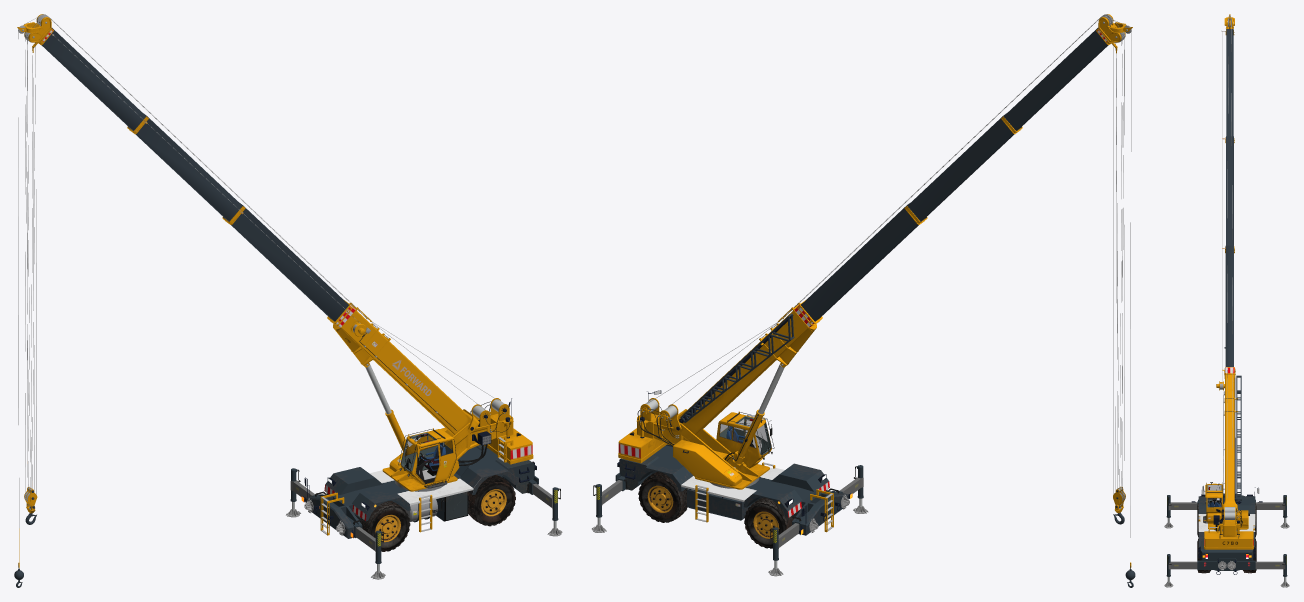
Rendered from crane_machine_high.glb.
The picture shows the model from 3 angles, left to right: view 1: azimuth 30°, elevation 25°; view 2: azimuth 150°, elevation 25°; view 3: azimuth 270°, elevation 25°; orthographic projection. The views are drawn at different scales.
Visible parts, largest first — view 1: polySurface51_hand__0, pCube59_base__0, pCube33_body__0, polySurface208_tyre__0, pCube15_cabin__0, polySurface110_hydrolic_lift__0, polySurface164_glass_1_0, polySurface220_rim_0, pCube139_lader__0, pCylinder370_other__0; view 2: polySurface51_hand__0, pCube59_base__0, pCube33_body__0, polySurface208_tyre__0, polySurface110_hydrolic_lift__0, pCube15_cabin__0, polySurface220_rim_0, pCylinder370_other__0, pCube139_lader__0, polySurface164_glass_1_0; view 3: polySurface51_hand__0, pCube59_base__0, polySurface110_hydrolic_lift__0, pCube33_body__0, pCylinder370_other__0, pCube15_cabin__0, polySurface208_tyre__0, pCylinder407_hydraulic__0, polySurface164_glass_1_0.
Part boxes in pixels (left/top/right/bottom): polySurface51_hand__0: left=14, top=14, right=498, bottom=587; pCube59_base__0: left=305, top=444, right=538, bottom=538; pCube33_body__0: left=382, top=398, right=533, bottom=491; polySurface208_tyre__0: left=327, top=475, right=515, bottom=551; pCube15_cabin__0: left=398, top=428, right=459, bottom=488; polySurface110_hydrolic_lift__0: left=286, top=468, right=562, bottom=579; polySurface164_glass_1_0: left=401, top=435, right=452, bottom=479; polySurface220_rim_0: left=307, top=479, right=506, bottom=542; pCube139_lader__0: left=320, top=435, right=513, bottom=535; pCylinder370_other__0: left=33, top=47, right=536, bottom=538; polySurface51_hand__0: left=647, top=14, right=1135, bottom=587; pCube59_base__0: left=615, top=444, right=848, bottom=535; pCube33_body__0: left=618, top=398, right=769, bottom=489; polySurface208_tyre__0: left=638, top=471, right=827, bottom=548; polySurface110_hydrolic_lift__0: left=592, top=465, right=868, bottom=576; pCube15_cabin__0: left=716, top=411, right=774, bottom=468; polySurface220_rim_0: left=647, top=485, right=805, bottom=538; pCylinder370_other__0: left=617, top=315, right=852, bottom=534; pCube139_lader__0: left=667, top=444, right=833, bottom=532; polySurface164_glass_1_0: left=720, top=419, right=771, bottom=462; polySurface51_hand__0: left=1216, top=14, right=1241, bottom=513; pCube59_base__0: left=1198, top=493, right=1255, bottom=570; polySurface110_hydrolic_lift__0: left=1164, top=495, right=1289, bottom=587; pCube33_body__0: left=1204, top=506, right=1253, bottom=549; pCylinder370_other__0: left=1191, top=378, right=1262, bottom=574; pCube15_cabin__0: left=1201, top=482, right=1222, bottom=523; polySurface208_tyre__0: left=1197, top=503, right=1256, bottom=573; pCylinder407_hydraulic__0: left=1168, top=388, right=1285, bottom=564; polySurface164_glass_1_0: left=1208, top=485, right=1221, bottom=506.
Bounding box in the file's own units: 27.47 × 31.08 × 8.59.
Materials: 14 (13 with a texture image).
